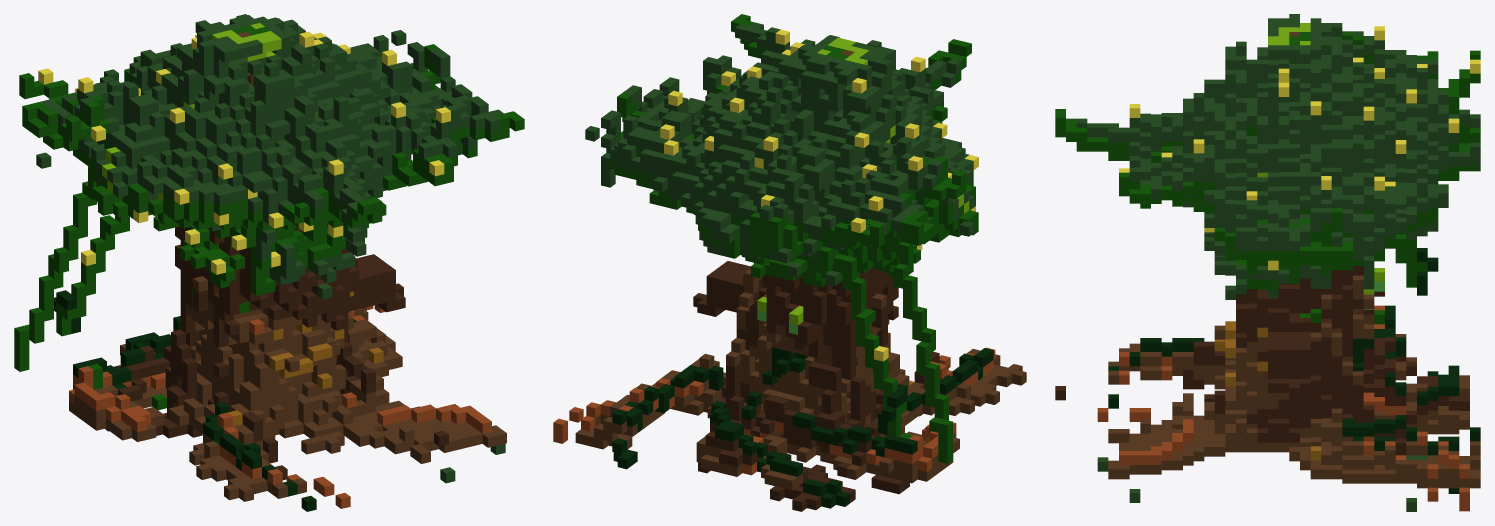
The model's file is Laura_Sofia_Parra_Ledezma_fase_4.obj.
3 renders of one model, left to right at view 1: azimuth 30°, elevation 25°; view 2: azimuth 150°, elevation 25°; view 3: azimuth 270°, elevation 25°, orthographic. The views are drawn at different scales.
Parts seen in each view (by area): view 1: Laura_Sofia_Parra_Ledezma_fase_4; view 2: Laura_Sofia_Parra_Ledezma_fase_4; view 3: Laura_Sofia_Parra_Ledezma_fase_4.
Boxes of the visible parts, <box> form: Laura_Sofia_Parra_Ledezma_fase_4: <box>14,14,524,511</box>; Laura_Sofia_Parra_Ledezma_fase_4: <box>553,14,1026,511</box>; Laura_Sofia_Parra_Ledezma_fase_4: <box>1055,14,1480,511</box>.
Size of the model in its own units: 40 by 40 by 40.
1 material, 1 textured.
